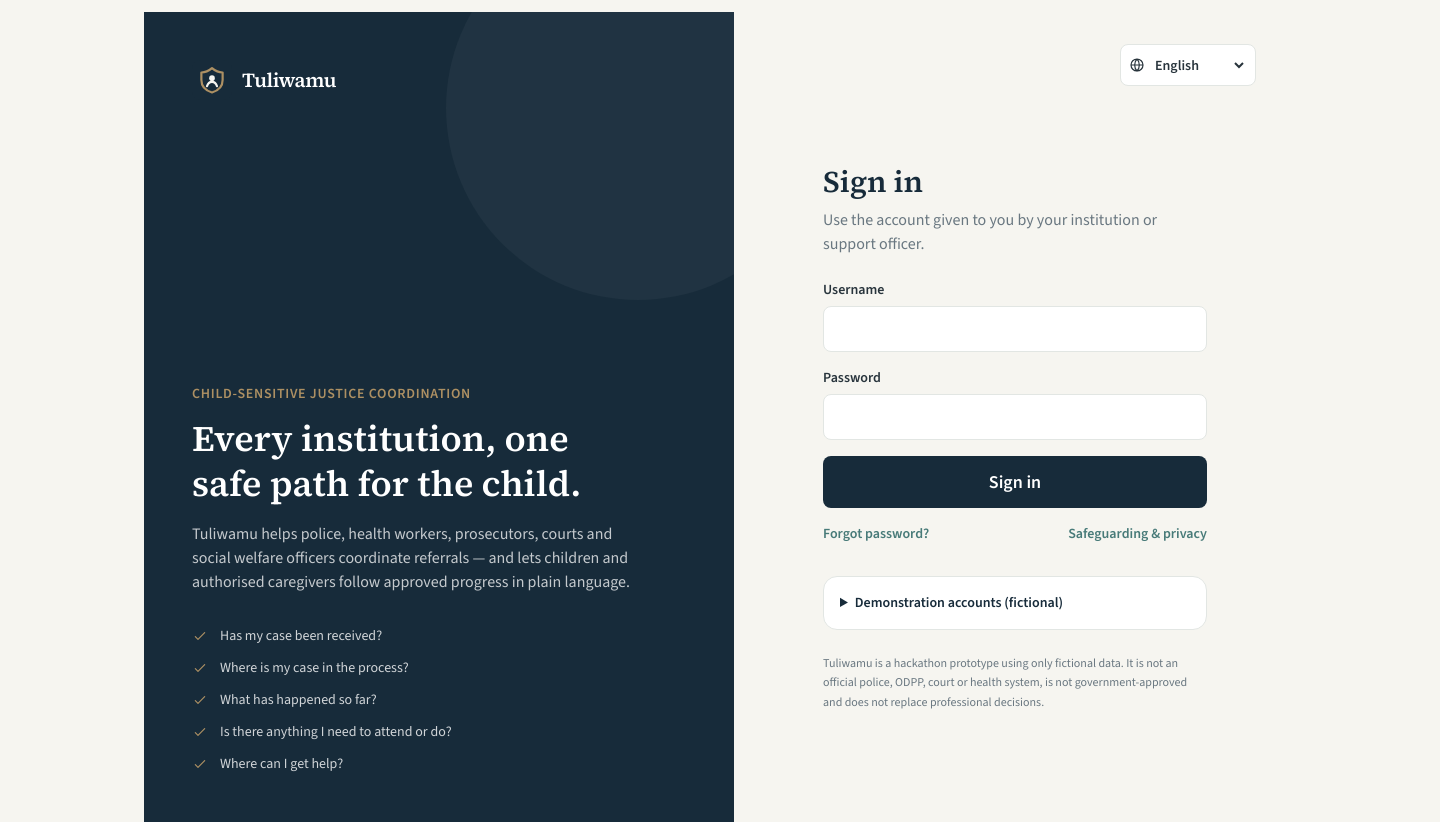
authentication journeys › shows the login page and a validation message
Check: the heading "Sign in" is shown, box [823, 161, 923, 202]
Click the button "Sign in" at [1015, 482], box [823, 456, 1207, 508]
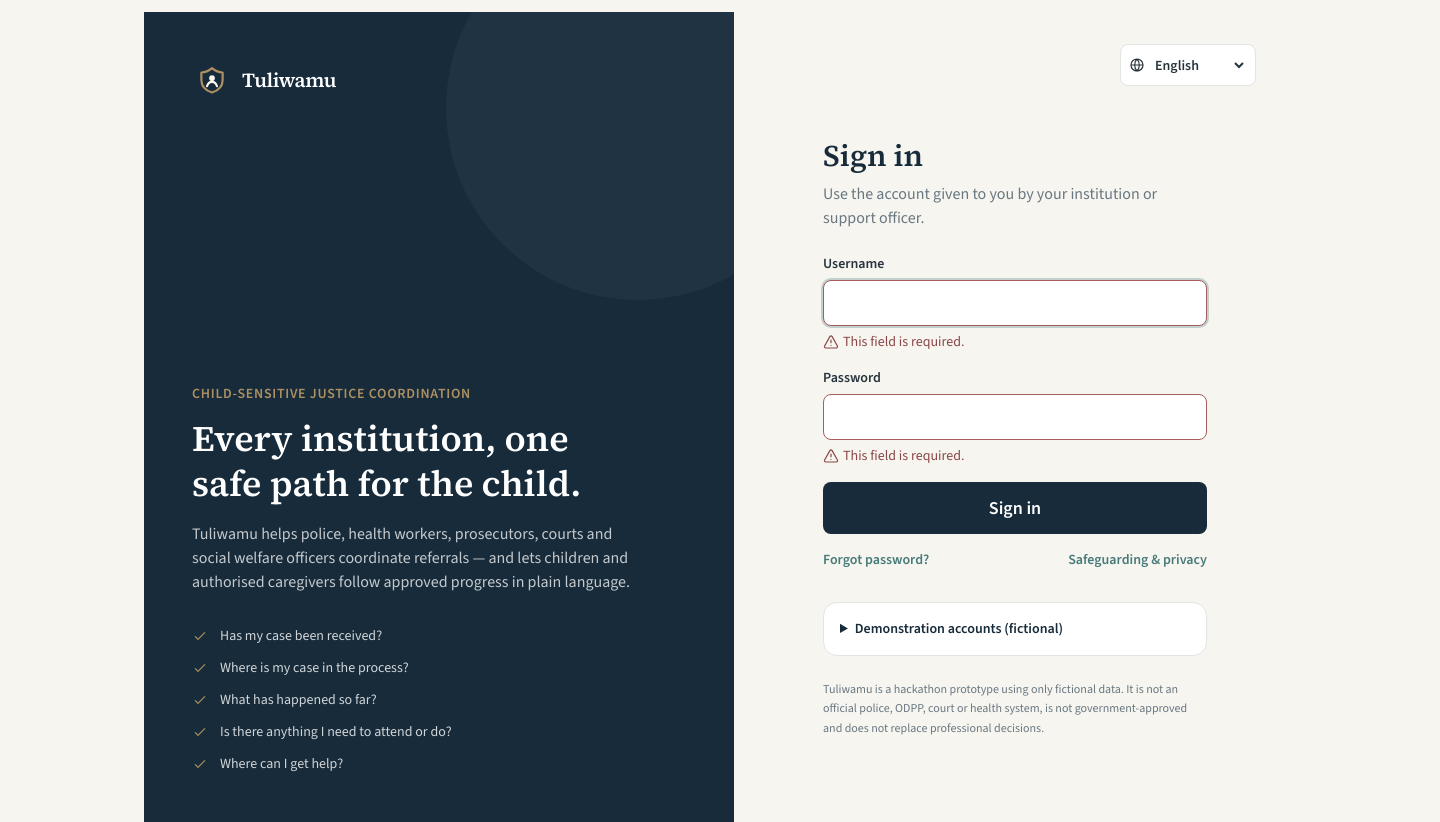
Check: the text "This field is required." is shown 2 times, box [823, 332, 964, 351]; [823, 446, 964, 465]
